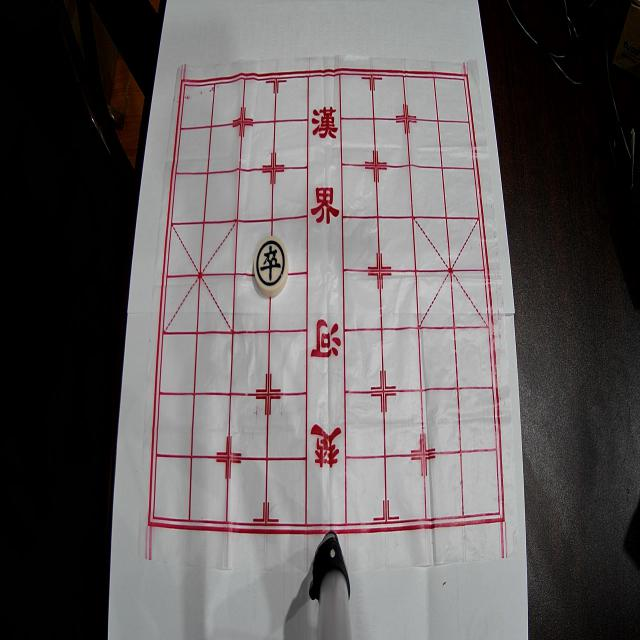black-soldier: (254, 236, 288, 296)
